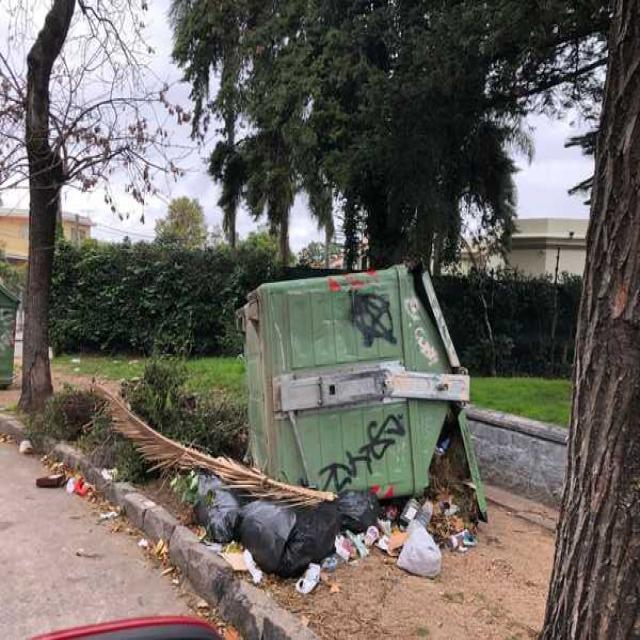Trashbag: (242, 497, 337, 578), (192, 470, 250, 544), (328, 487, 386, 528)
